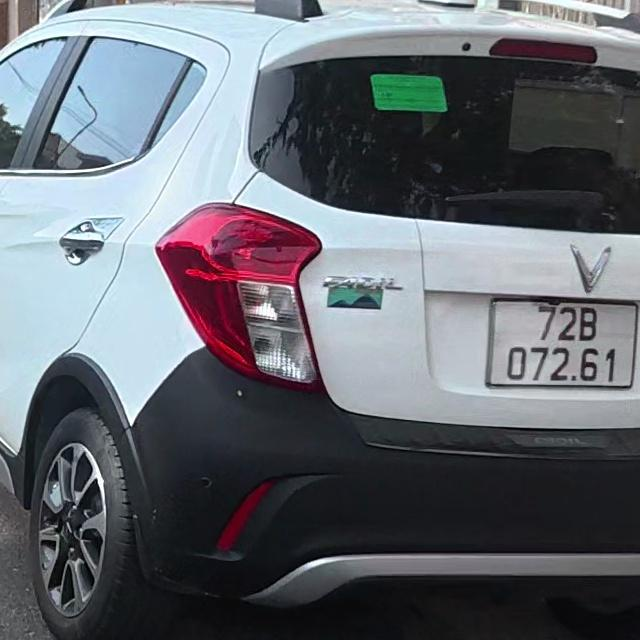license-plate: (485, 300, 637, 389)
